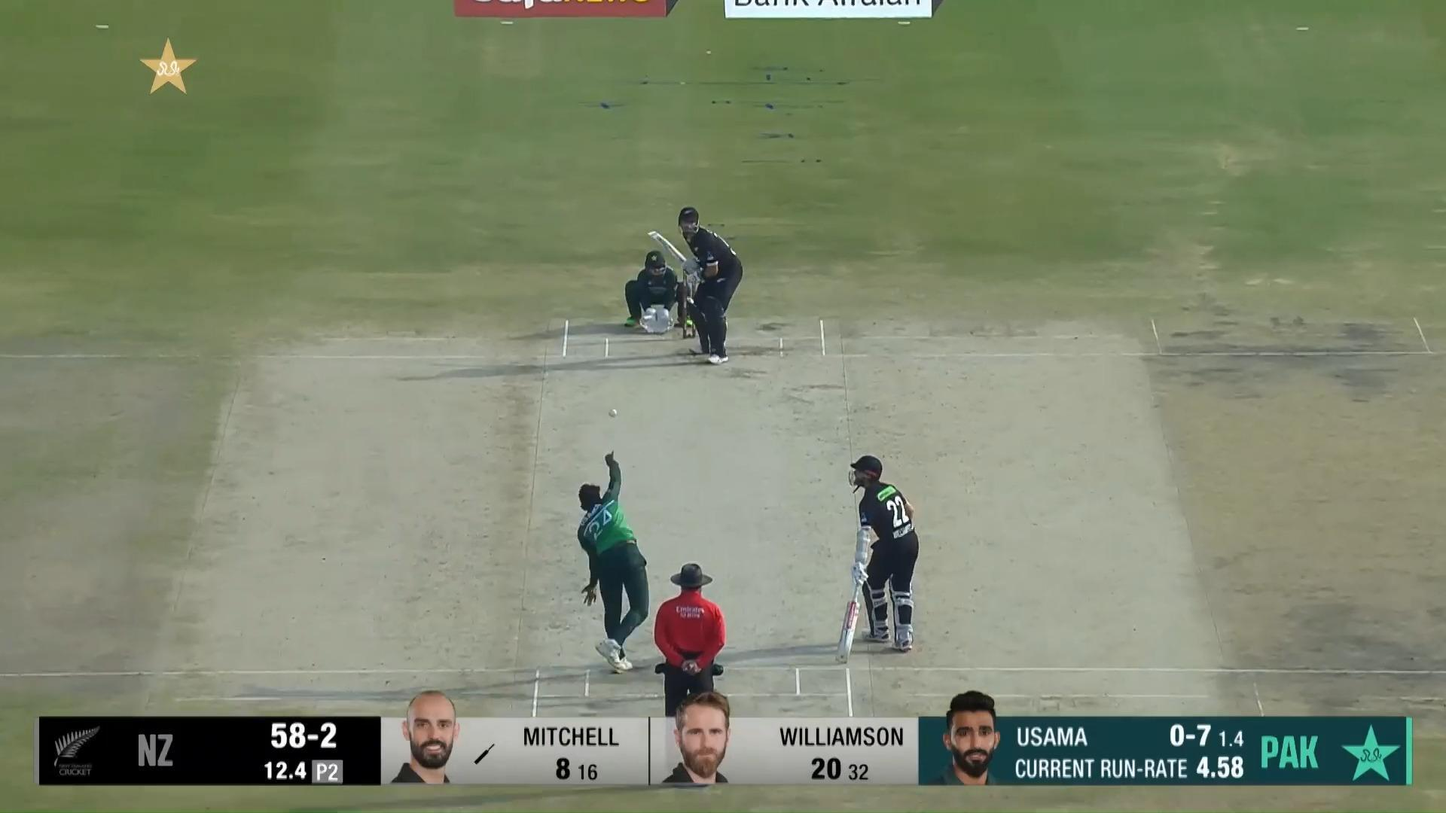BM 1: (648, 206, 743, 364)
BO: (575, 449, 651, 675)
